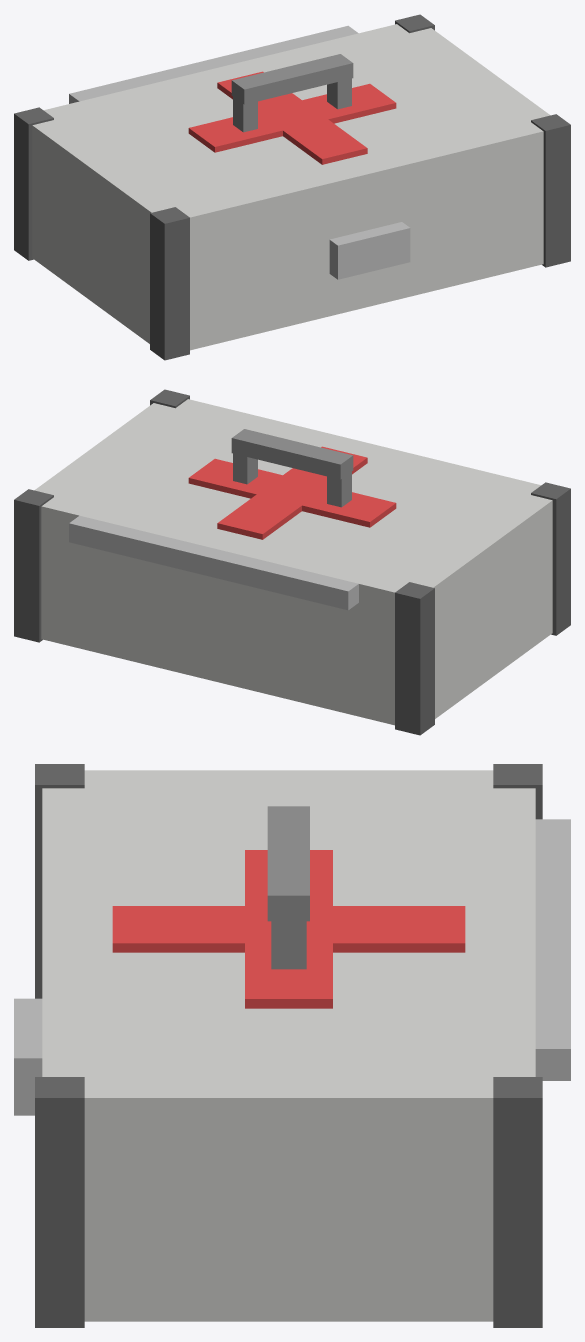
File: HealthKit.fbx
3 renders of one model, top to bottom at view 1: azimuth 30°, elevation 25°; view 2: azimuth 150°, elevation 25°; view 3: azimuth 270°, elevation 25°, orthographic. The views are drawn at different scales.
Visible parts, largest first — view 1: HealthKit; view 2: HealthKit; view 3: HealthKit.
Part boxes in pixels (x1,y1,x2,y2): HealthKit: (14, 14, 570, 360); HealthKit: (14, 389, 570, 735); HealthKit: (14, 764, 570, 1327).
Bounding box in the file's own units: 22.4 × 9.7 × 15.8.
